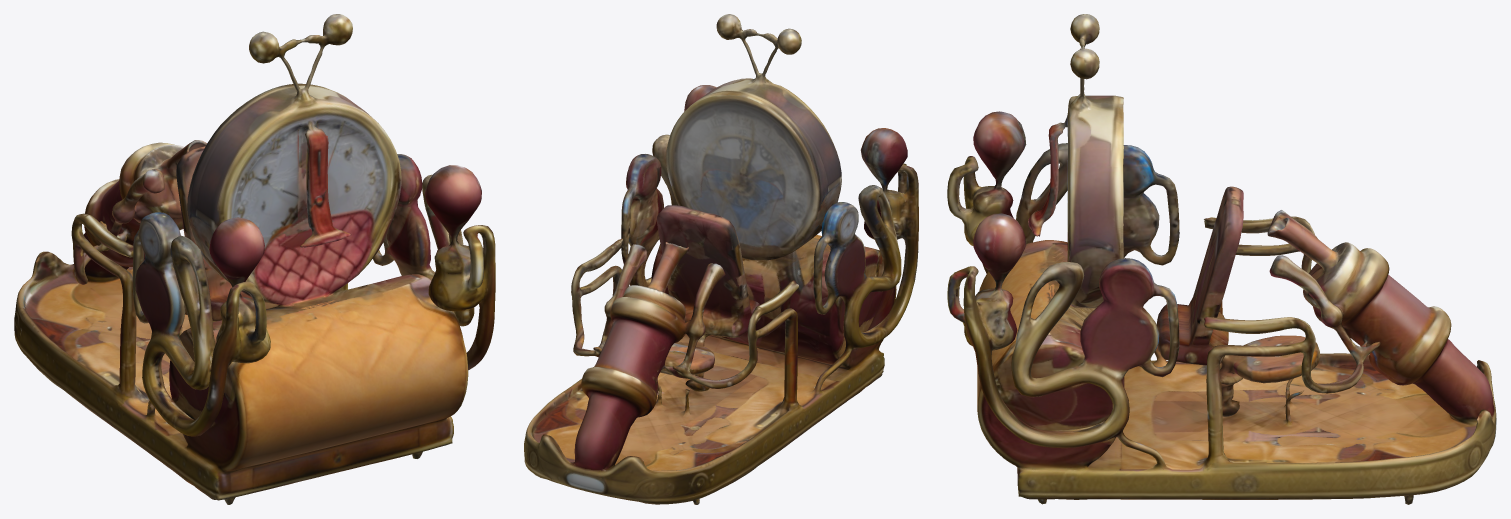
Rendered from TimeMachine.glb.
3 views of the same model, side by side, from view 1: azimuth 30°, elevation 25°; view 2: azimuth 150°, elevation 25°; view 3: azimuth 270°, elevation 25° (orthographic). The views are drawn at different scales.
Visible parts, largest first — view 1: Mesh_0; view 2: Mesh_0; view 3: Mesh_0.
Part boxes in pixels (x1,y1,x2,y2): Mesh_0: [14, 14, 495, 504]; Mesh_0: [524, 14, 918, 504]; Mesh_0: [947, 14, 1496, 504].
Size of the model in its own units: 1.16 by 1.72 by 2.
Materials: 1 (1 with a texture image).
